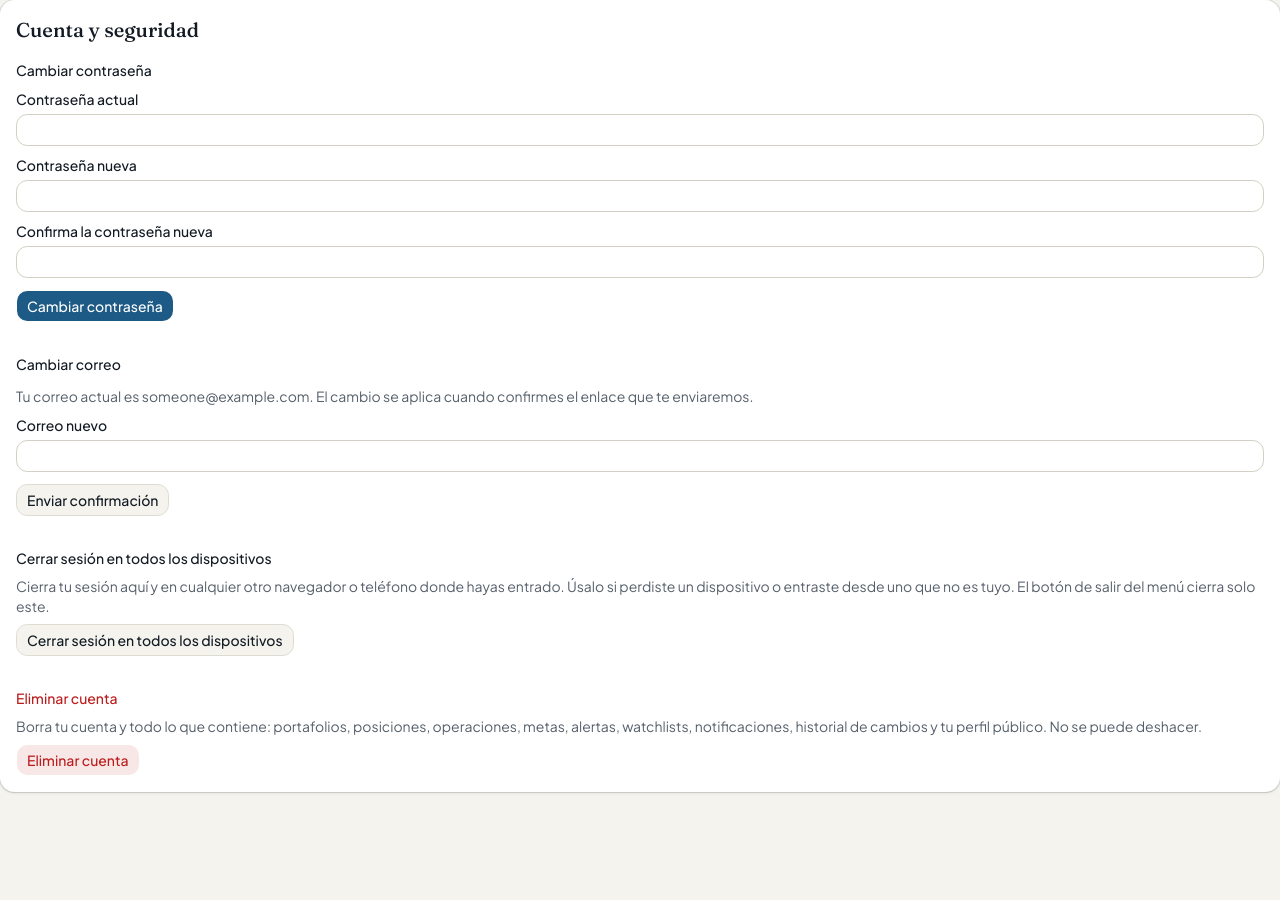
it: AccountSecurity — delete account › cannot be confirmed without the password and the typed word
The image size is (1280, 900).
Click the button "Eliminar cuenta" at (78, 760), box [16, 744, 140, 776]
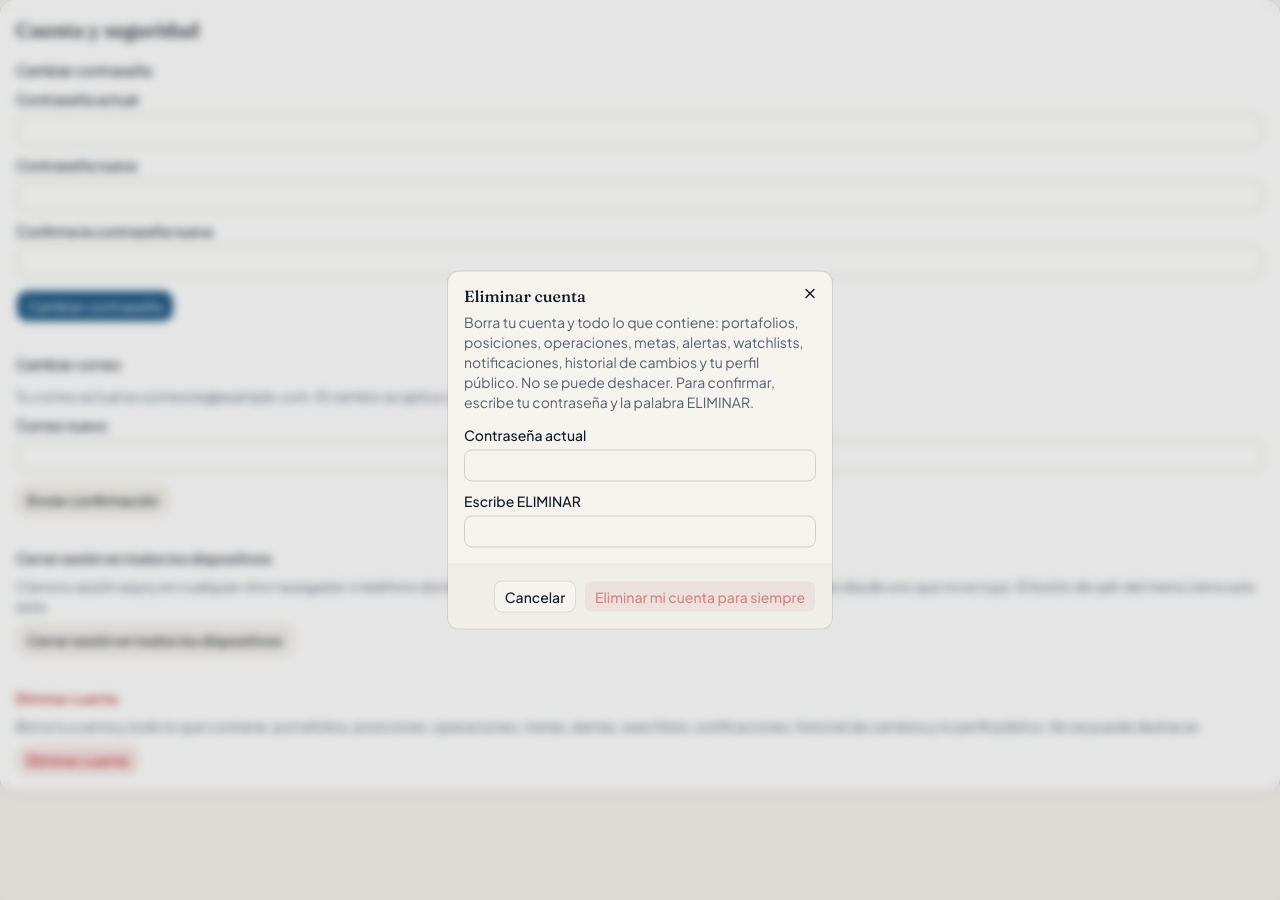
Expected: the button "Eliminar mi cuenta para siempre" is disabled, [584, 580, 816, 612]
Type "secret" into the password field labelled "Contraseña actual" at (640, 466), box [464, 450, 816, 482]
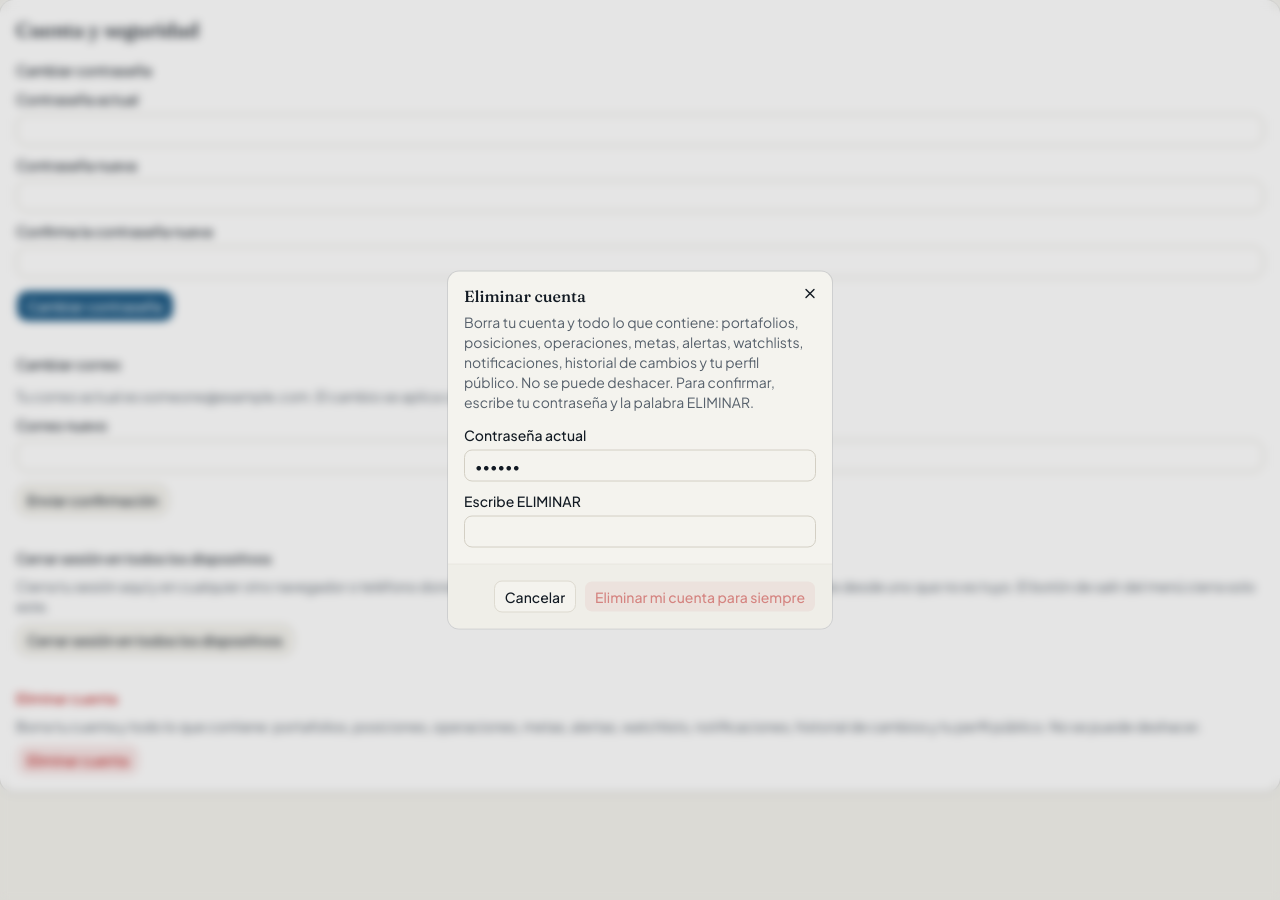
Expected: the button "Eliminar mi cuenta para siempre" is disabled, [584, 580, 816, 612]
Type "eliminar" into the field labelled "Escribe ELIMINAR" at (640, 532), box [464, 516, 816, 548]
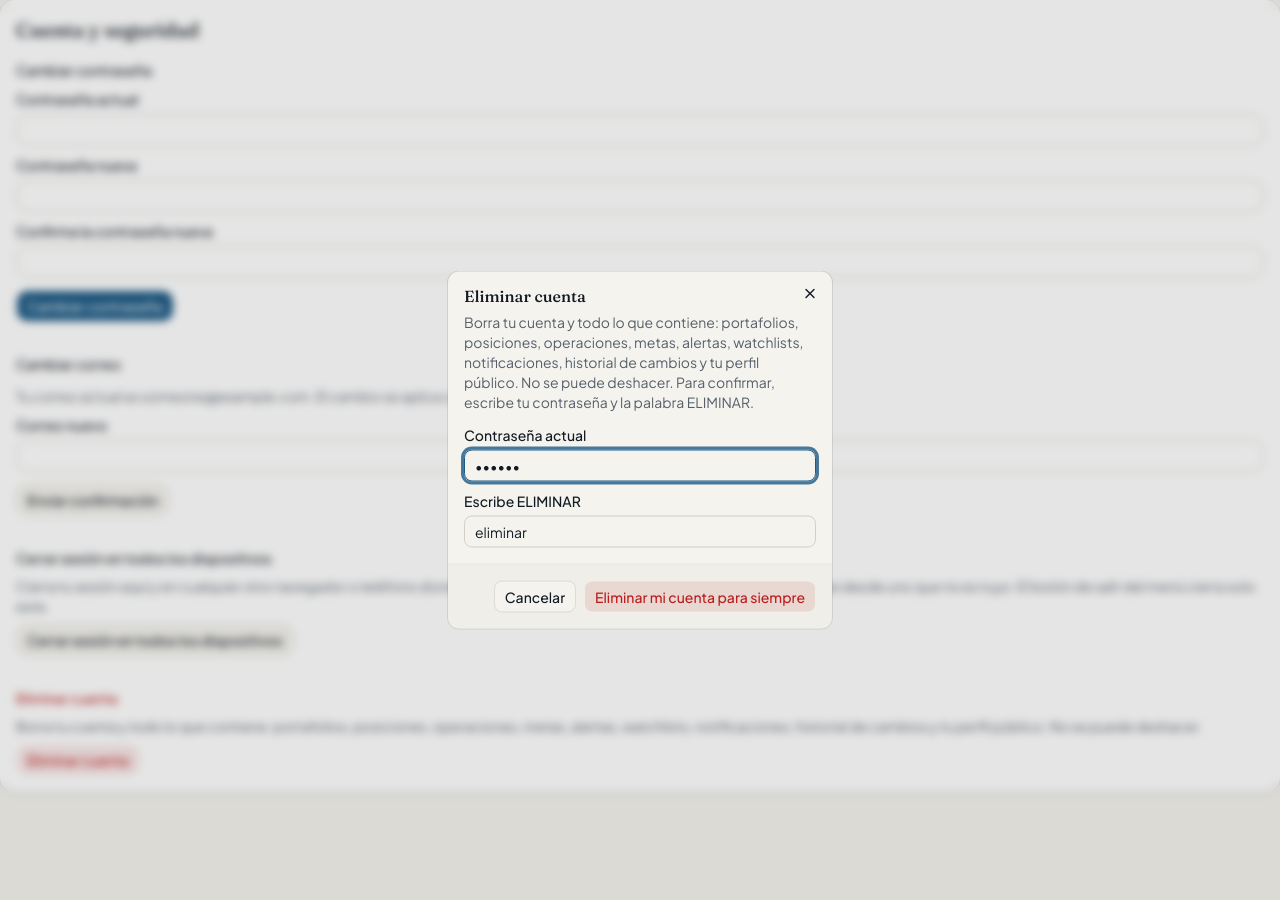
Expected: the button "Eliminar mi cuenta para siempre" is enabled, [584, 580, 816, 612]
